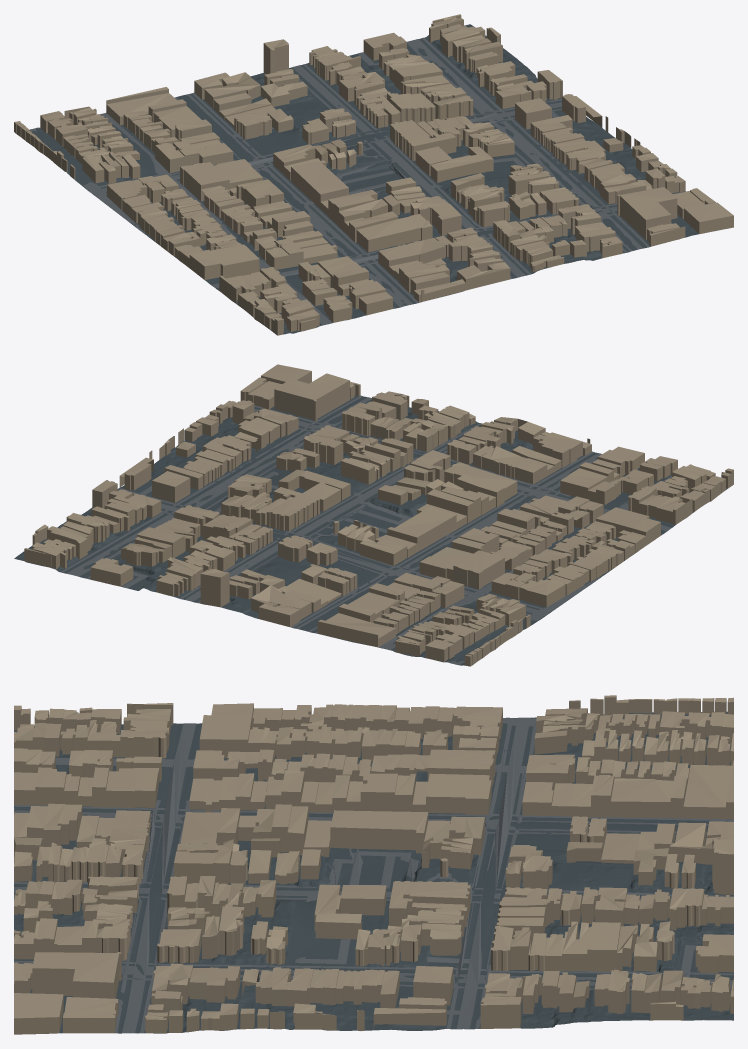
Rendered from epsg26910-1435-10883.lod0.glb.
The picture shows the model from 3 angles, top to bottom: view 1: azimuth 30°, elevation 25°; view 2: azimuth 150°, elevation 25°; view 3: azimuth 270°, elevation 25°; orthographic projection. The views are drawn at different scales.
Visible parts, largest first — view 1: epsg26910-1435-10883-lod0; view 2: epsg26910-1435-10883-lod0; view 3: epsg26910-1435-10883-lod0.
Boxes of the visible parts, left/top/right/bottom form: epsg26910-1435-10883-lod0: left=14, top=14, right=733, bottom=335; epsg26910-1435-10883-lod0: left=14, top=364, right=733, bottom=666; epsg26910-1435-10883-lod0: left=14, top=695, right=733, bottom=1034.
Bounding box in the file's own units: 384 × 33.82 × 384.
